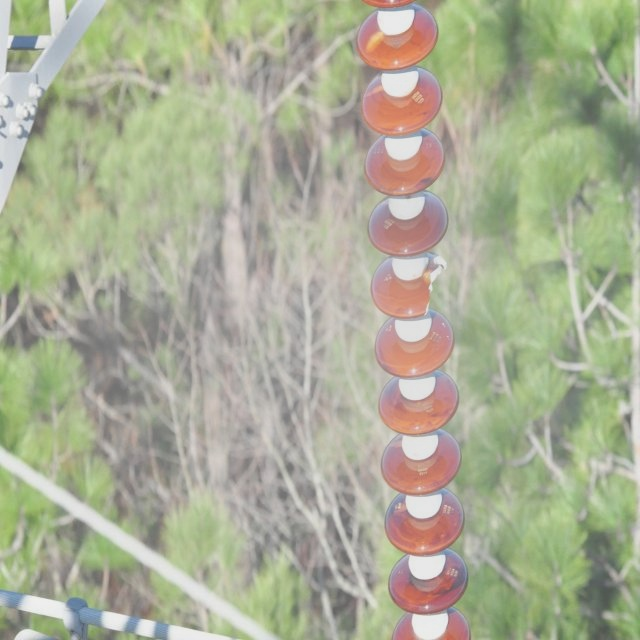broken: (422, 249, 449, 322)
insulator: (355, 0, 474, 639)
